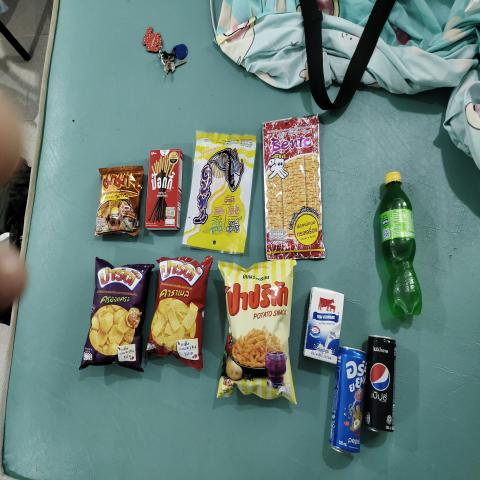bento_red: (264, 124, 320, 256)
fanta_green: (382, 171, 410, 321)
mama: (102, 172, 137, 236)
paprika: (224, 268, 291, 395)
party_purple: (93, 264, 134, 370)
party_red: (155, 261, 199, 358)
pepsi_black: (363, 336, 396, 434)
pepsi_blue: (342, 347, 360, 454)
pokki: (149, 152, 179, 227)
taro_yellow: (193, 132, 249, 246)
thai_denmark: (306, 292, 342, 357)
